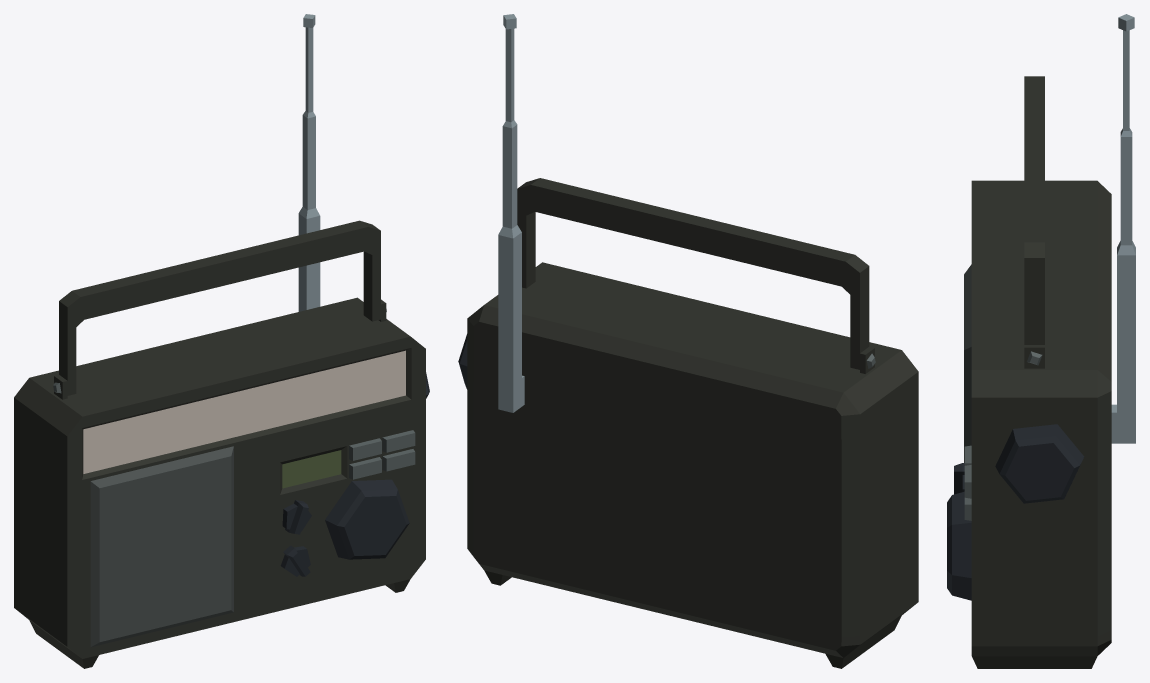
Rendered from SM_Radio.gltf.
3 renders of one model, left to right at view 1: azimuth 30°, elevation 25°; view 2: azimuth 150°, elevation 25°; view 3: azimuth 270°, elevation 25°, orthographic. The views are drawn at different scales.
Visible parts, largest first — view 1: SM_Radio, SM_Radio_Handle, SM_Radio_Antenna; view 2: SM_Radio, SM_Radio_Handle, SM_Radio_Antenna; view 3: SM_Radio, SM_Radio_Antenna, SM_Radio_Handle.
Boxes of the visible parts, <box> form: SM_Radio: <box>14,297,429,668</box>; SM_Radio_Handle: <box>59,220,380,395</box>; SM_Radio_Antenna: <box>298,14,320,311</box>; SM_Radio: <box>458,262,918,668</box>; SM_Radio_Handle: <box>517,178,869,369</box>; SM_Radio_Antenna: <box>498,14,524,412</box>; SM_Radio: <box>947,180,1111,668</box>; SM_Radio_Antenna: <box>1111,14,1135,443</box>; SM_Radio_Handle: <box>1024,76,1044,344</box>.
Size of the model in its own units: 0.4044 by 0.5496 by 0.1484.
Materials: 1 (1 with a texture image).
